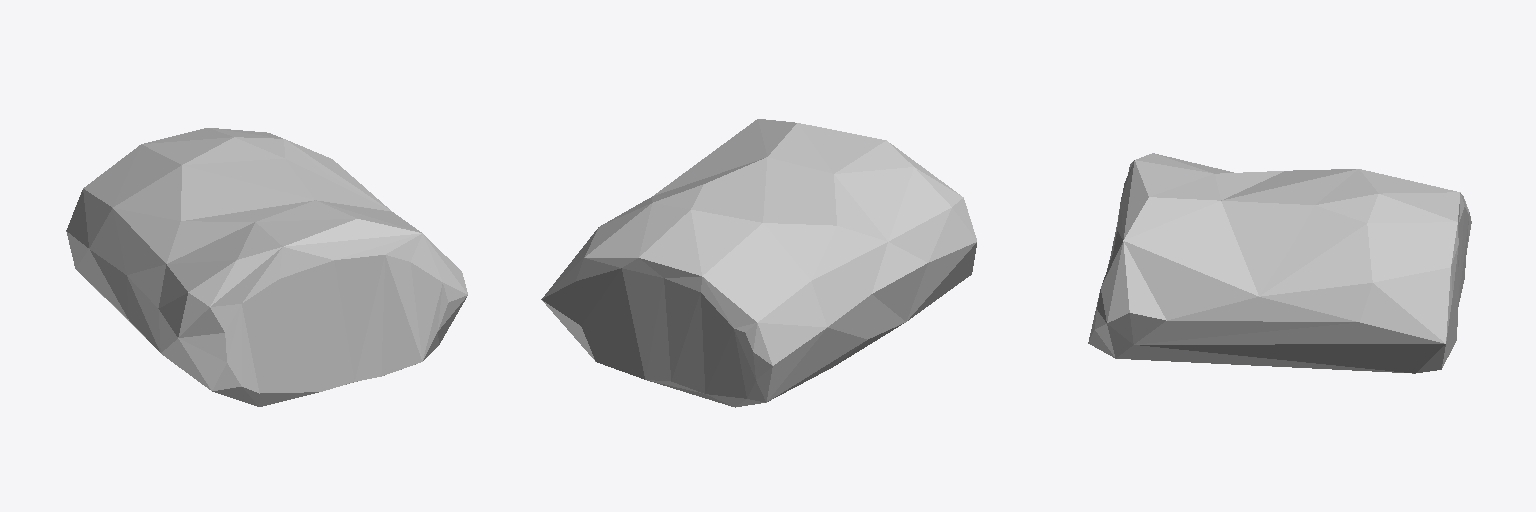
Rendered from Blanket_rolled_single.obj.
3 renders of one model, left to right at view 1: azimuth 30°, elevation 25°; view 2: azimuth 150°, elevation 25°; view 3: azimuth 270°, elevation 25°, orthographic.
Visible parts, largest first — view 1: Blanket_single_Rolled_LOD0_Plane.002; view 2: Blanket_single_Rolled_LOD0_Plane.002; view 3: Blanket_single_Rolled_LOD0_Plane.002.
Boxes of the visible parts, <box> form: Blanket_single_Rolled_LOD0_Plane.002: <box>66,128,467,406</box>; Blanket_single_Rolled_LOD0_Plane.002: <box>541,119,976,407</box>; Blanket_single_Rolled_LOD0_Plane.002: <box>1088,153,1471,373</box>.
Bounding box in the file's own units: 0.5969 × 0.3037 × 0.6904.